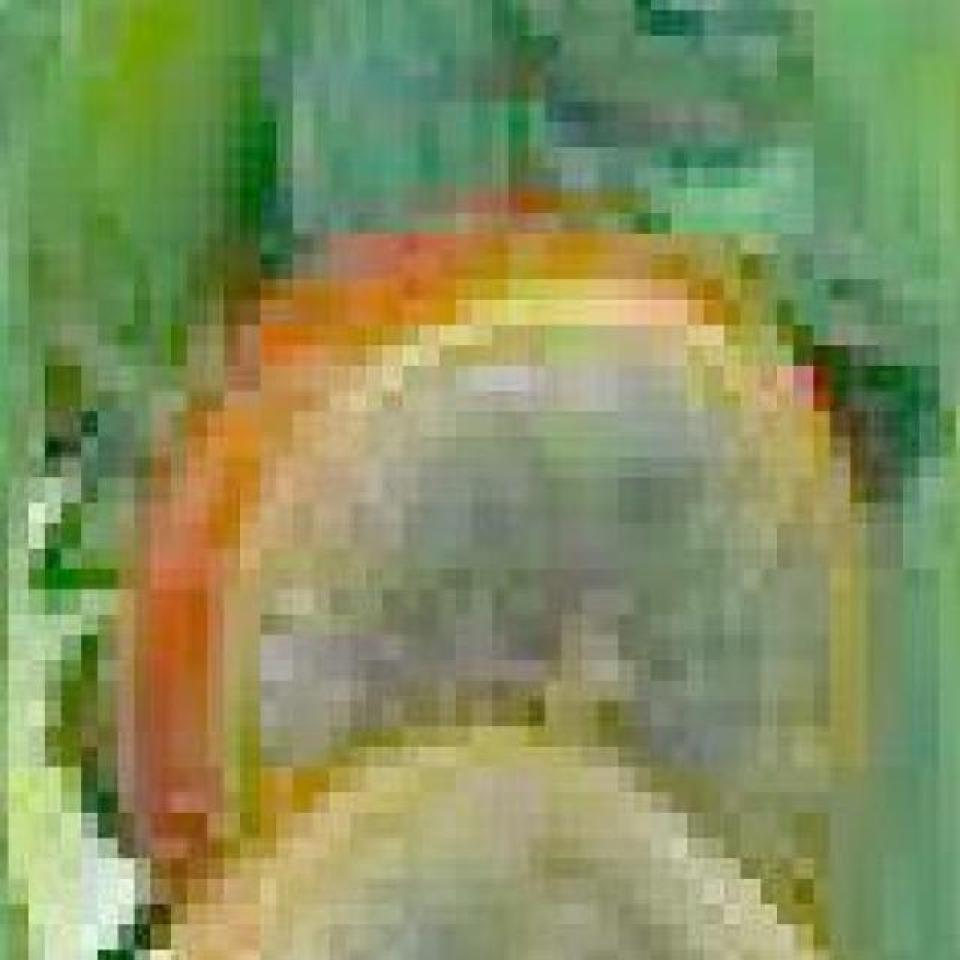Blossom_end_rot: (236, 279, 814, 883), (238, 766, 722, 955)
